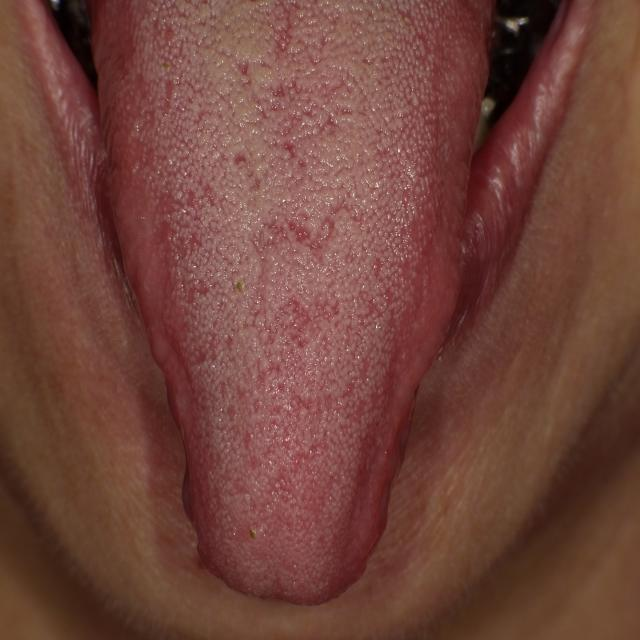hongshe: (89, 2, 494, 604)
huangtaishe: (89, 2, 494, 604)
